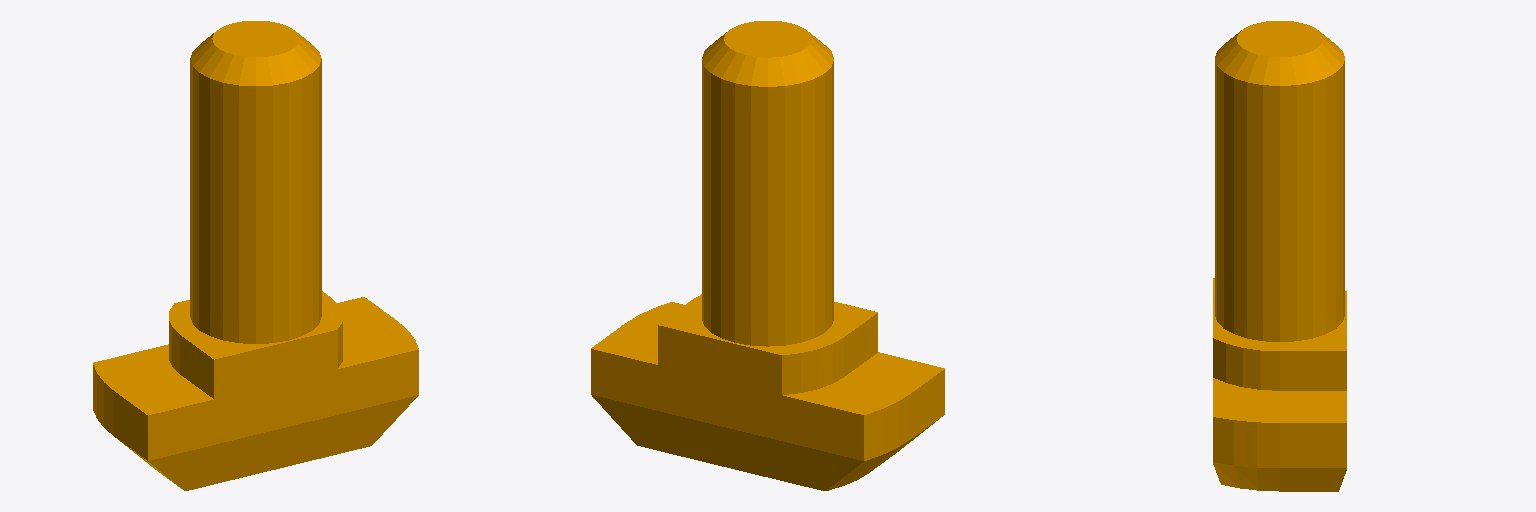
robot.urdf — T_BOLT_M6X16:
<?xml version="1.0"?>
<robot name="T_BOLT_M6X16">
  <link name="T_BOLT_M6X16">
    <visual>
    <origin rpy="0 3.14159 0" xyz="0 0 0"/>
      <!-- <origin xyz="0.0 0.0 0.0"/> -->
      <geometry>
        <mesh filename="../mesh/factory_nut_bolt/T_BOLT_M6X16.obj" scale="0.005 0.005 0.005"/>
      </geometry>
    </visual>
    <collision>
      <origin xyz="0.0 0.0 0.0"/>
      <geometry>
        <mesh filename="../mesh/factory_nut_bolt/T_BOLT_M6X16.obj" scale="0.005 0.005 0.005"/>
      </geometry>
      <sdf resolution="512"/>
    </collision>
  </link>
</robot>
<!-- <?xml version="1.0"?>
<robot name="T_BOLT_M6X16">
    <link name="T_BOLT_M6X16">
        <visual>
            <geometry>
                <mesh filename="../mesh/factory_nut_bolt/T_BOLT_M6X16.obj"/>
            </geometry>
        </visual>
        <collision>
            <geometry>
                <mesh filename="../mesh/factory_nut_bolt/T_BOLT_M6X16.obj"/>
            </geometry>
            <sdf resolution="512"/>
        </collision>
    </link>
</robot> -->

--- Render facts (derived) ---
The picture shows the robot from 3 angles, left to right: view 1: azimuth 30°, elevation 25°; view 2: azimuth 150°, elevation 25°; view 3: azimuth 270°, elevation 25°; orthographic projection.
Model T_BOLT_M6X16 with 1 links and 0 joints (none), rooted at T_BOLT_M6X16, posed every joint at zero.
Visible links, largest first — view 1: T_BOLT_M6X16; view 2: T_BOLT_M6X16; view 3: T_BOLT_M6X16.
Link boxes in pixels (left/top/right/bottom): T_BOLT_M6X16: left=93, top=21, right=418, bottom=490; T_BOLT_M6X16: left=591, top=21, right=944, bottom=490; T_BOLT_M6X16: left=1213, top=21, right=1346, bottom=491.
Bounding box of the posed robot: 0.075 × 0.031 × 0.1025 m (x, y, z).
1 mesh visuals loaded from 1 distinct referenced files (1 OBJ).